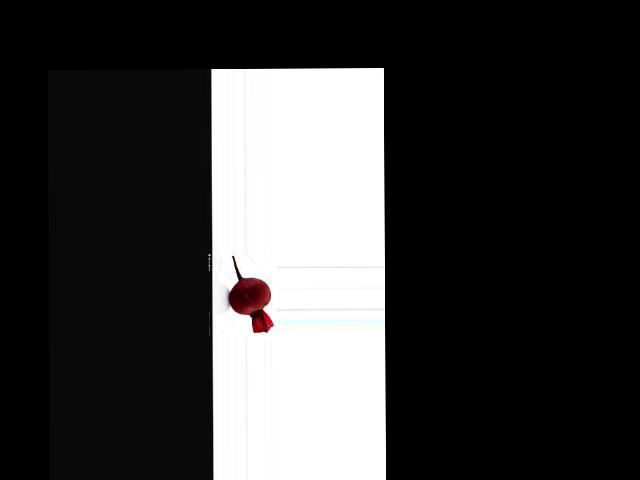beet: (228, 256, 272, 333)
